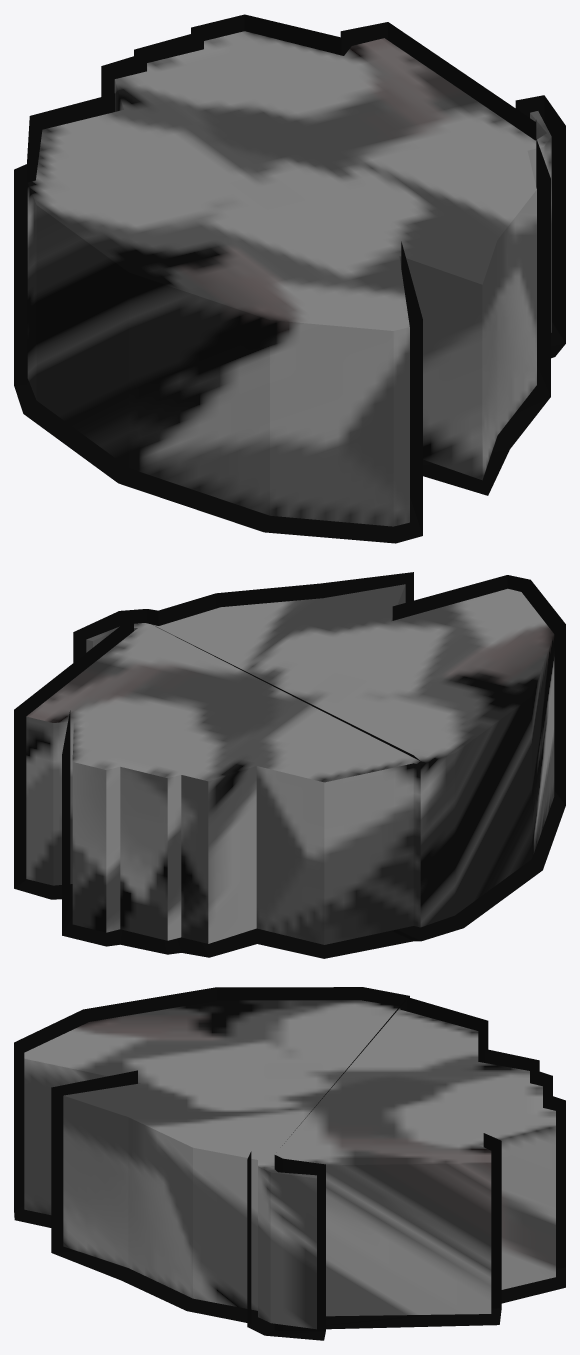
File: Building_RubblePile_Things_Building_RubblePile_RubblePileD.glb
3 views of the same model, one above another, from view 1: azimuth 30°, elevation 25°; view 2: azimuth 150°, elevation 25°; view 3: azimuth 270°, elevation 25° (orthographic). The views are drawn at different scales.
Parts seen in each view (by area): view 1: Body, Outline; view 2: Body, Outline; view 3: Body, Outline.
Boxes of the visible parts, x1,y1,x2,y2 form: Body: (27, 31, 551, 526); Outline: (14, 14, 565, 543); Body: (26, 584, 554, 944); Outline: (14, 572, 565, 958); Body: (24, 1000, 555, 1329); Outline: (14, 987, 565, 1340).
Size of the model in its own units: 0.9499 by 0.4193 by 1.19.
Materials: 2 (1 with a texture image).
